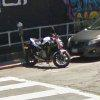Motorcycle: (15, 28, 80, 73)
